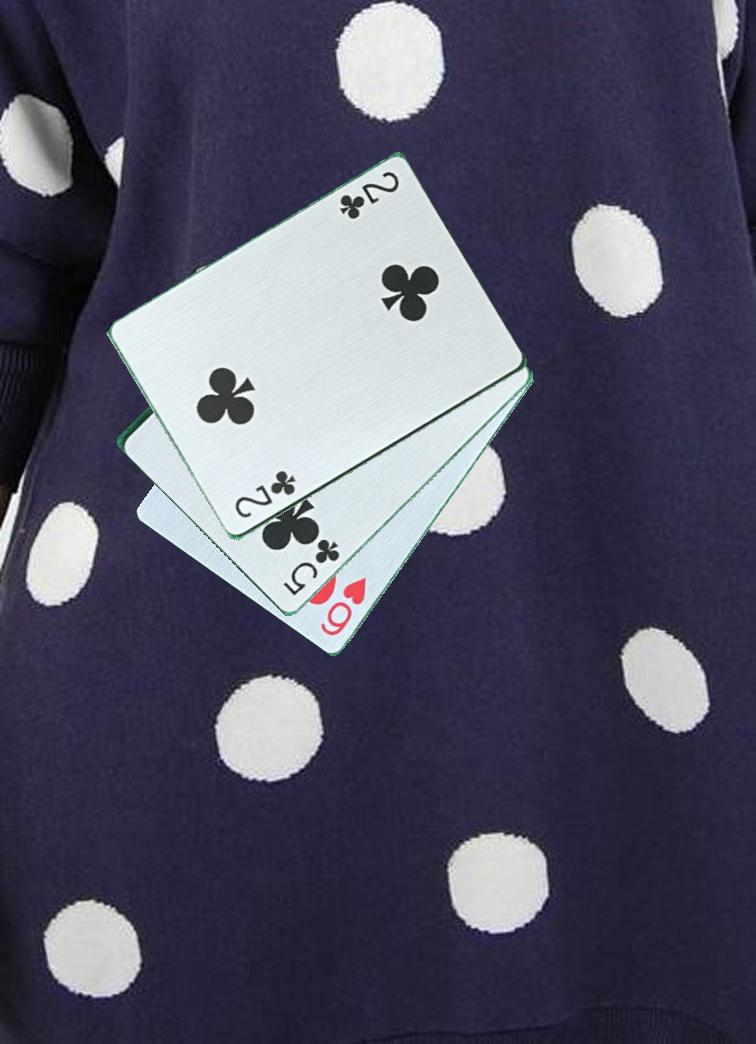2c: (335, 168, 403, 223), (231, 468, 299, 522)
5c: (280, 535, 348, 599)
6h: (317, 574, 370, 640)
